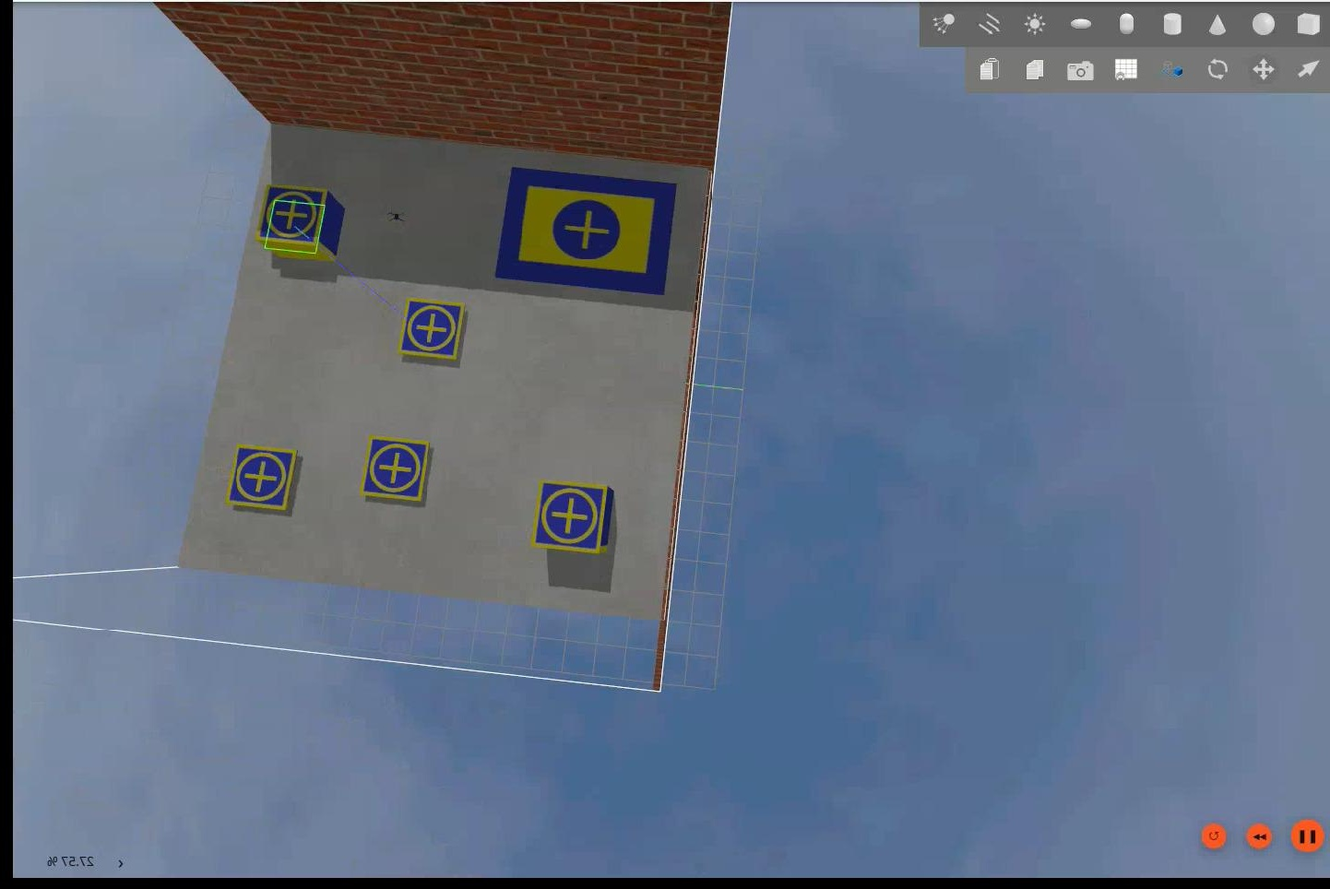large_base: (487, 166, 675, 299)
small_base: (528, 477, 610, 557), (251, 184, 329, 251), (224, 444, 296, 516), (391, 297, 464, 365), (359, 435, 428, 505)
